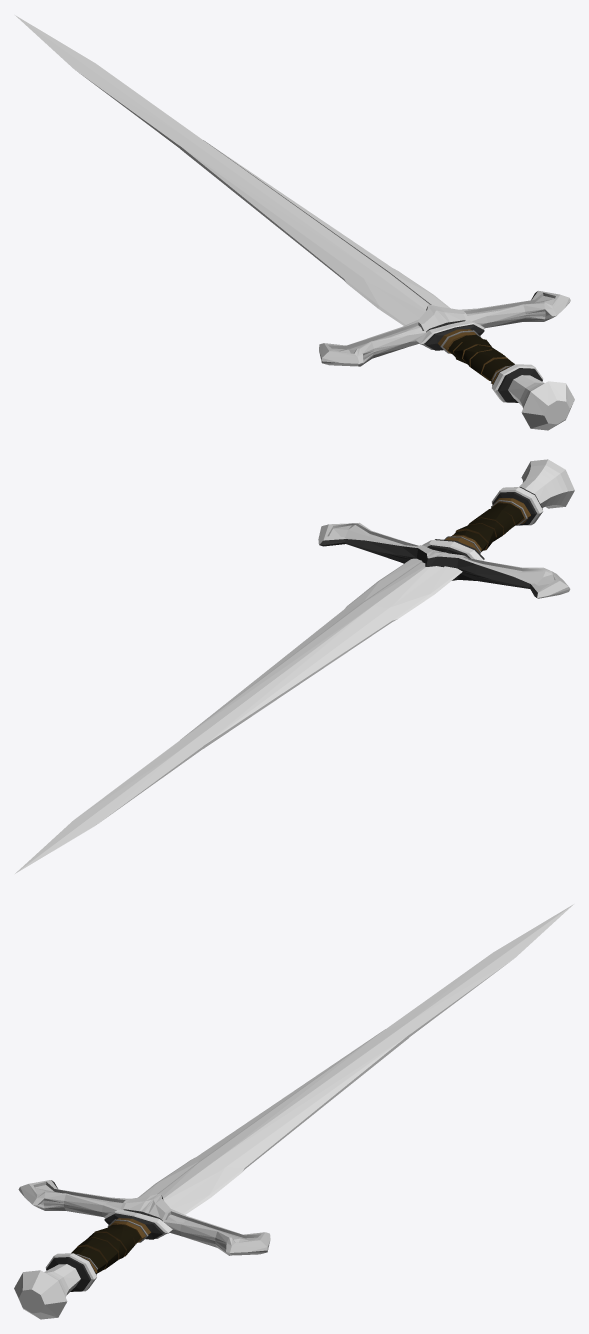
Rendered from longsword.fbx.
The picture shows the model from 3 angles, top to bottom: view 1: azimuth 30°, elevation 25°; view 2: azimuth 150°, elevation 25°; view 3: azimuth 330°, elevation 25°; orthographic projection.
Visible parts, largest first — view 1: longsword; view 2: longsword; view 3: longsword.
Boxes of the visible parts, x1,y1,x2,y2 form: longsword: (15,15,574,430); longsword: (15,459,574,873); longsword: (14,904,573,1319).
Bounding box in the file's own units: 30.12 × 5.7 × 114.
